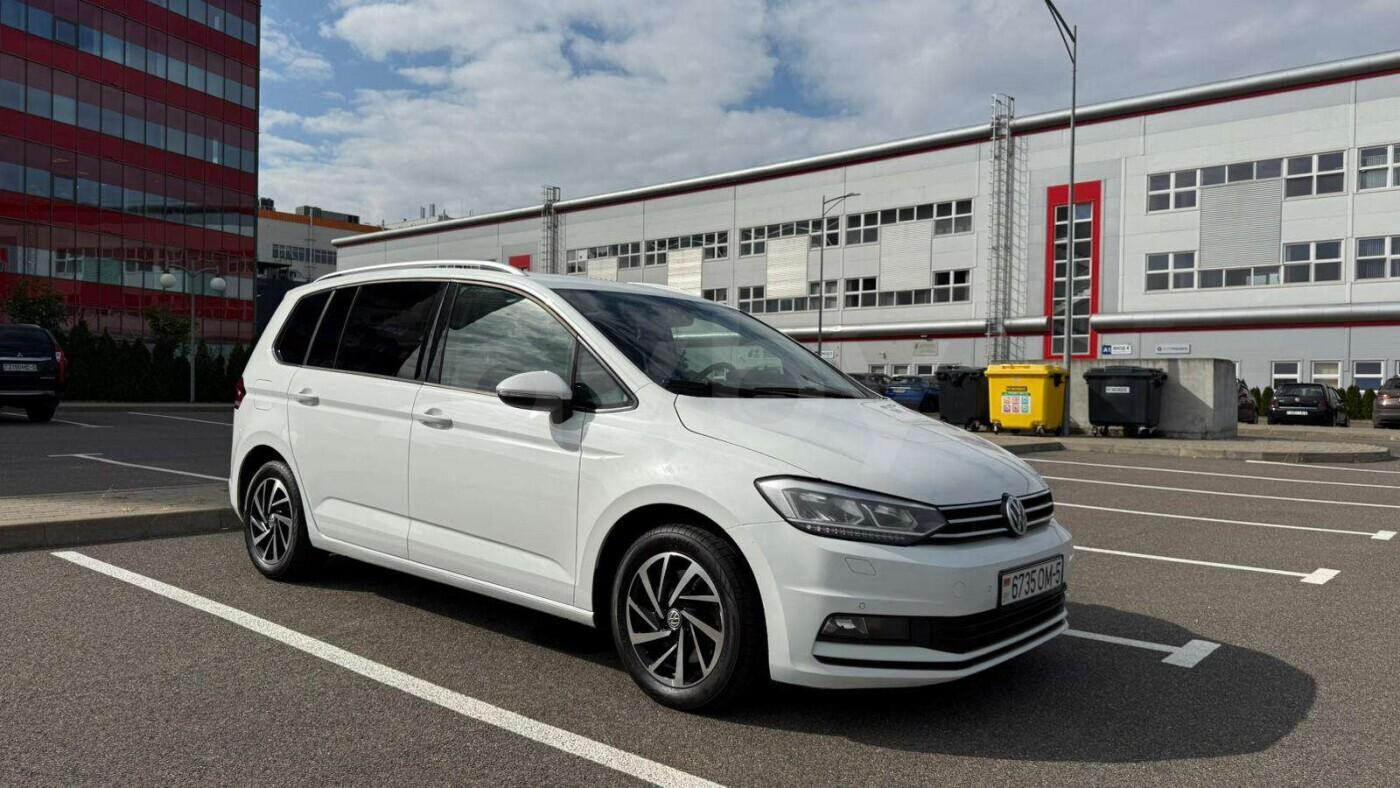Touran_2015: (227, 264, 1074, 717)
